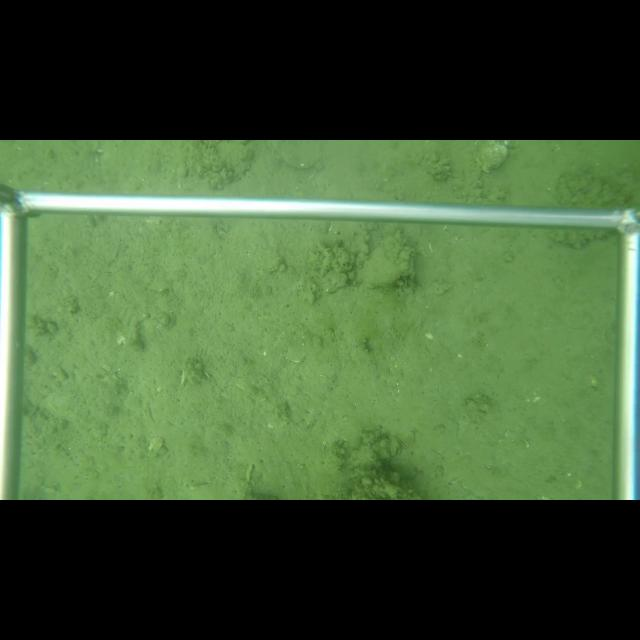Oyster-Closed: (361, 224, 416, 291)
